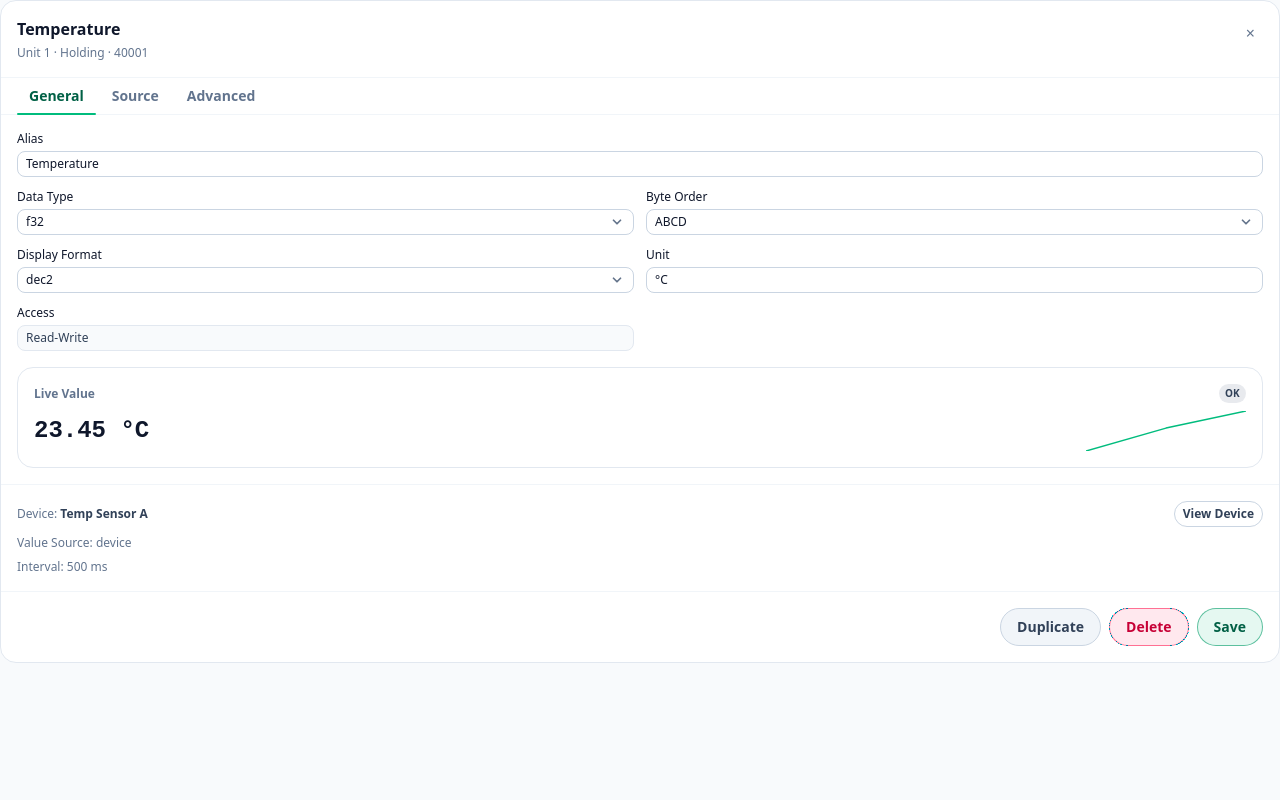
Test: RegisterInspector › switches to the Source tab and shows the matching param editor
What coordinates should you click on to do the following:
click the tab "source"
I would click on:
 (135, 96)
Its box is [100, 78, 171, 114].
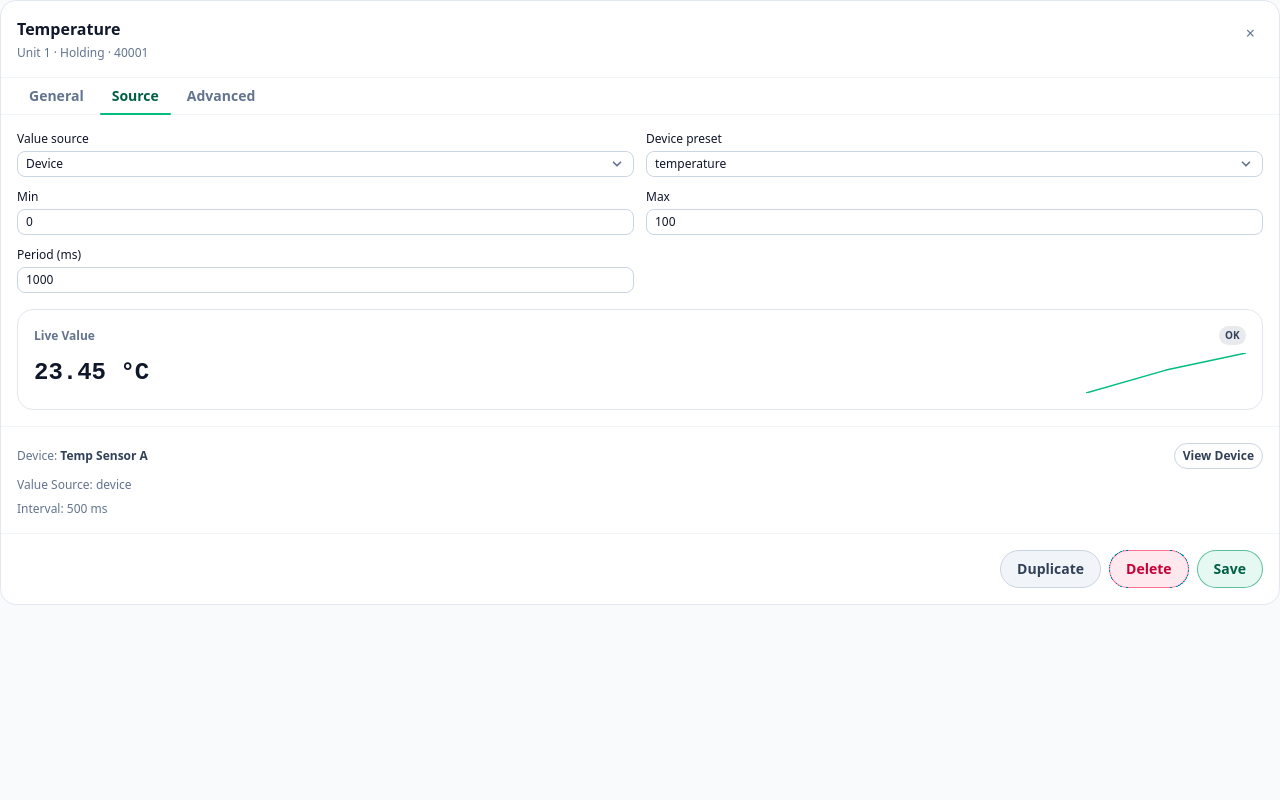
Expected: the dropdown labelled "Device preset" is shown, [646, 151, 1263, 177]
